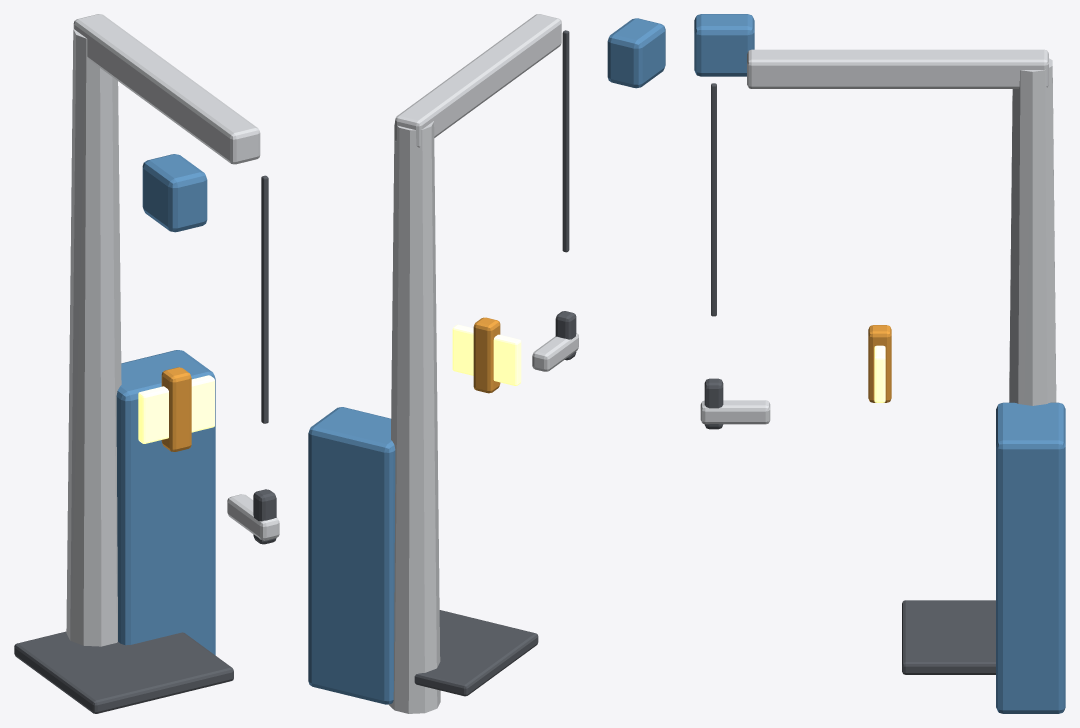
Rendered from btf-torque-tool.glb.
The picture shows the model from 3 angles, left to right: view 1: azimuth 30°, elevation 25°; view 2: azimuth 150°, elevation 25°; view 3: azimuth 270°, elevation 25°; orthographic projection. The views are drawn at different scales.
Visible parts, largest first — view 1: 149-torque-tool-on-balancer/1, 149-torque-tool-on-balancer/2, 149-torque-tool-on-balancer/0, 149-torque-tool-on-balancer/4, 149-torque-tool-on-balancer/3; view 2: 149-torque-tool-on-balancer/1, 149-torque-tool-on-balancer/2, 149-torque-tool-on-balancer/0, 149-torque-tool-on-balancer/4, 149-torque-tool-on-balancer/3; view 3: 149-torque-tool-on-balancer/1, 149-torque-tool-on-balancer/2, 149-torque-tool-on-balancer/0, 149-torque-tool-on-balancer/3, 149-torque-tool-on-balancer/4.
Part boxes in pixels (box(x1,y1,x2,y2)): 149-torque-tool-on-balancer/1: box(66, 14, 279, 646); 149-torque-tool-on-balancer/2: box(116, 154, 215, 655); 149-torque-tool-on-balancer/0: box(14, 175, 276, 713); 149-torque-tool-on-balancer/4: box(138, 375, 214, 443); 149-torque-tool-on-balancer/3: box(161, 367, 191, 451); 149-torque-tool-on-balancer/1: box(388, 14, 578, 713); 149-torque-tool-on-balancer/2: box(308, 18, 665, 704); 149-torque-tool-on-balancer/0: box(414, 30, 576, 696); 149-torque-tool-on-balancer/4: box(452, 324, 521, 385); 149-torque-tool-on-balancer/3: box(473, 317, 500, 393); 149-torque-tool-on-balancer/1: box(700, 49, 1056, 424); 149-torque-tool-on-balancer/2: box(694, 14, 1065, 713); 149-torque-tool-on-balancer/0: box(704, 83, 995, 674); 149-torque-tool-on-balancer/3: box(868, 325, 891, 402); 149-torque-tool-on-balancer/4: box(874, 345, 885, 402).
Bounding box in the file's own units: 31787 × 96335 × 52426.
